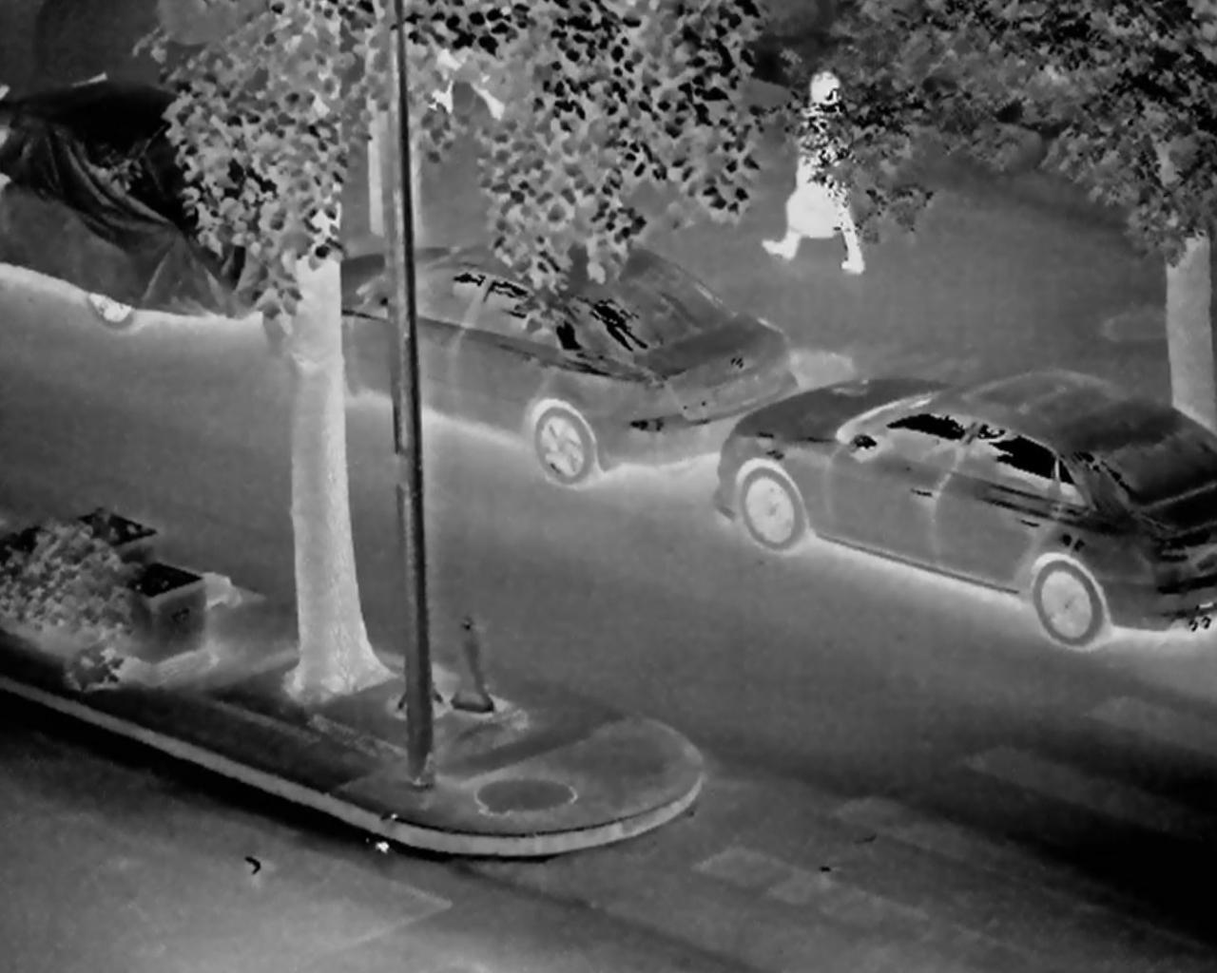person: (766, 47, 878, 275)
